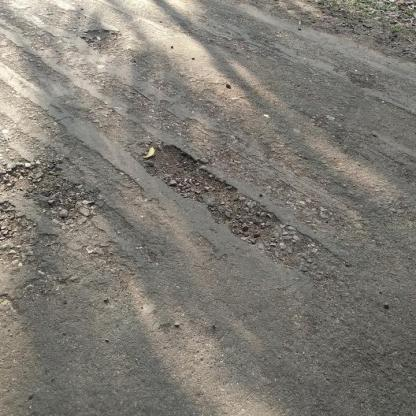pothole: (132, 140, 282, 246), (0, 157, 100, 227), (1, 198, 39, 242), (78, 25, 124, 58)
